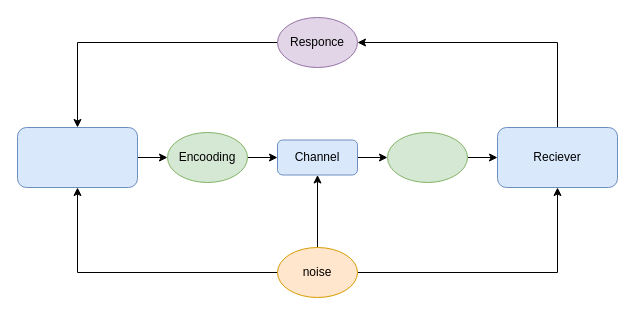
This 635x315 diagram has some shape labels left out. The shapes that lost their labels are listed below. From the top down, each one's centre as x and y in pixels, then its label:
[77,157]: Sender
[427,157]: Decoding
